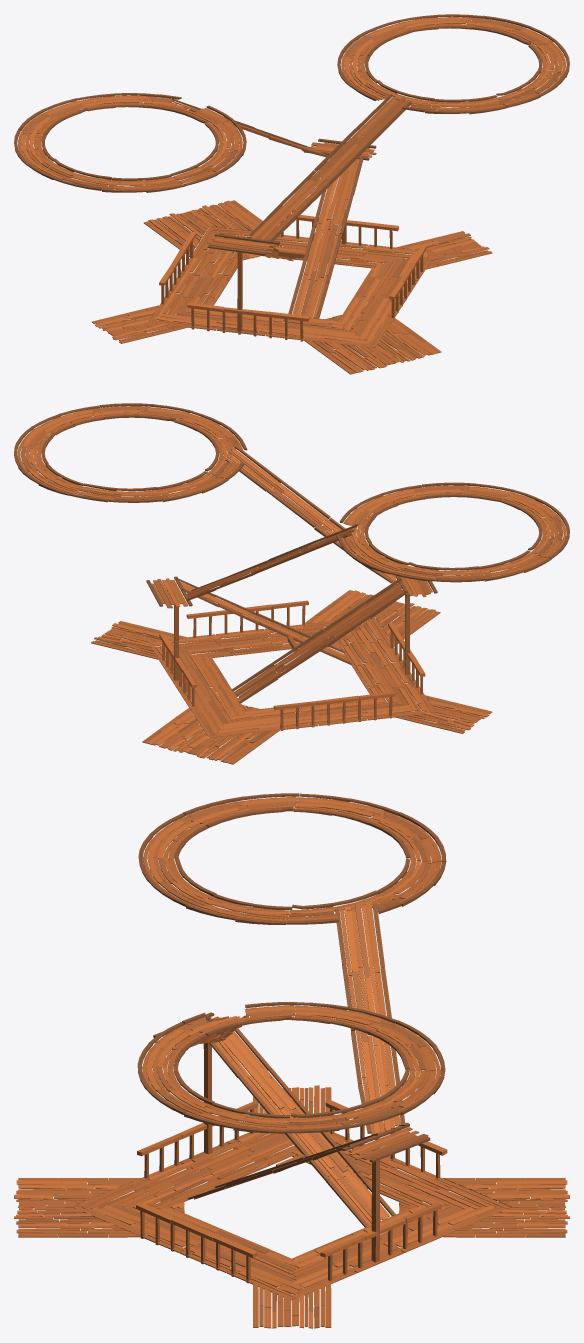
The model's file is Ship.fbx.
3 renders of one model, top to bottom at view 1: azimuth 30°, elevation 25°; view 2: azimuth 150°, elevation 25°; view 3: azimuth 270°, elevation 25°, orthographic. The views are drawn at different scales.
Visible parts, largest first — view 1: BretterBoden, Treppe, BallonBoden.002, BallonBoden, Absperrung, Stuetzen; view 2: BretterBoden, Treppe, BallonBoden, BallonBoden.002, Absperrung, Stuetzen; view 3: BretterBoden, Treppe, BallonBoden.002, BallonBoden, Absperrung, Stuetzen.
Part boxes in pixels (bbox=[...]): BretterBoden: bbox=[92, 200, 492, 374]; Treppe: bbox=[172, 94, 411, 319]; BallonBoden.002: bbox=[337, 14, 569, 114]; BallonBoden: bbox=[14, 93, 246, 192]; Absperrung: bbox=[159, 213, 426, 341]; Stuetzen: bbox=[237, 210, 346, 331]; BretterBoden: bbox=[91, 590, 492, 764]; Treppe: bbox=[146, 446, 437, 702]; BallonBoden: bbox=[336, 482, 569, 582]; BallonBoden.002: bbox=[14, 403, 247, 502]; Absperrung: bbox=[159, 600, 425, 730]; Stuetzen: bbox=[173, 594, 410, 680]; BretterBoden: bbox=[14, 1085, 569, 1328]; Treppe: bbox=[153, 903, 430, 1227]; BallonBoden.002: bbox=[137, 1002, 445, 1133]; BallonBoden: bbox=[138, 793, 446, 924]; Absperrung: bbox=[136, 1100, 447, 1283]; Stuetzen: bbox=[203, 1042, 379, 1262].
Bounding box in the file's own units: 14423 × 5017 × 10014.
